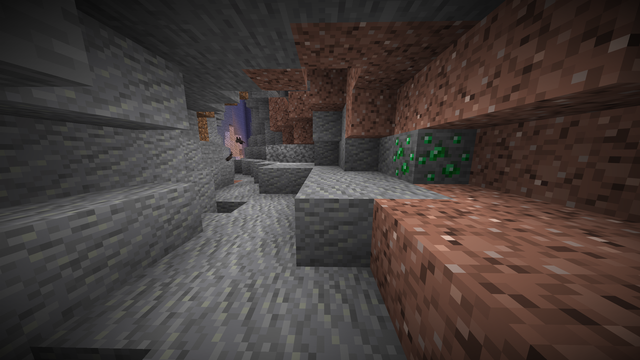emerald: (394, 129, 471, 184)
